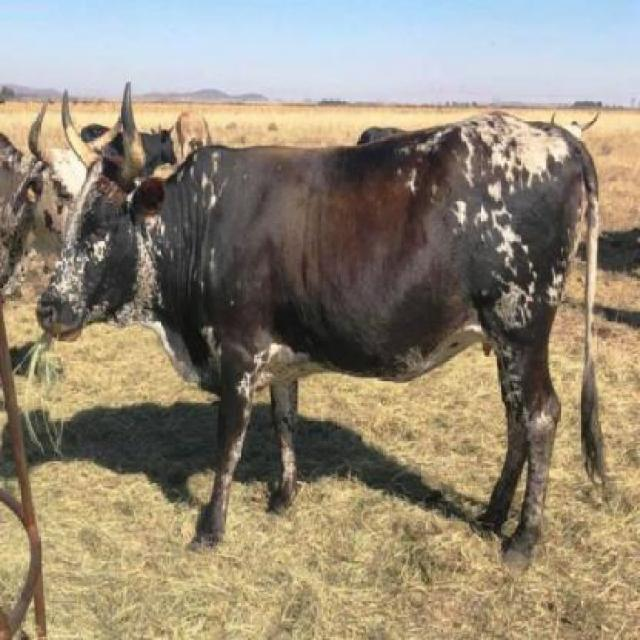Cow: (31, 110, 612, 578)
